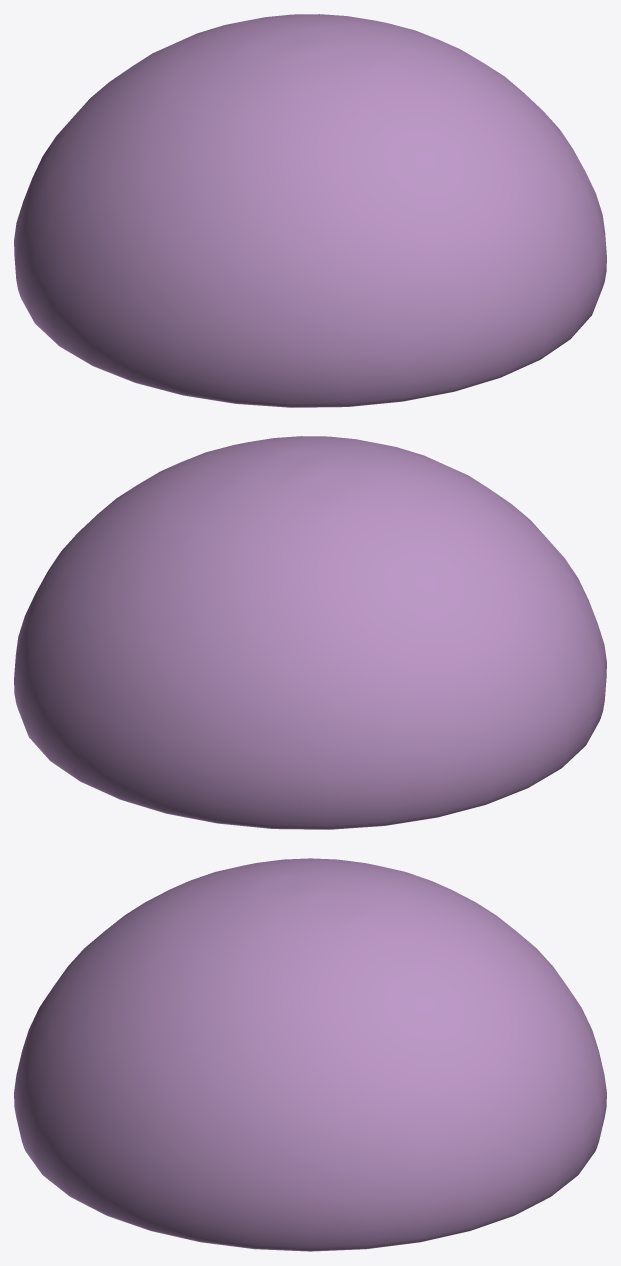
The model's file is SM_20011ArbustoLargo.fbx.
3 renders of one model, top to bottom at view 1: azimuth 30°, elevation 25°; view 2: azimuth 150°, elevation 25°; view 3: azimuth 270°, elevation 25°, orthographic.
Parts seen in each view (by area): view 1: SM_20011ArbustoLargo_geo_1; view 2: SM_20011ArbustoLargo_geo_1; view 3: SM_20011ArbustoLargo_geo_1.
Part boxes in pixels (x1=…): SM_20011ArbustoLargo_geo_1: x1=14, y1=14, x2=606, y2=407; SM_20011ArbustoLargo_geo_1: x1=14, y1=436, x2=606, y2=829; SM_20011ArbustoLargo_geo_1: x1=14, y1=858, x2=606, y2=1251.
Size of the model in its own units: 139 by 62.13 by 139.
